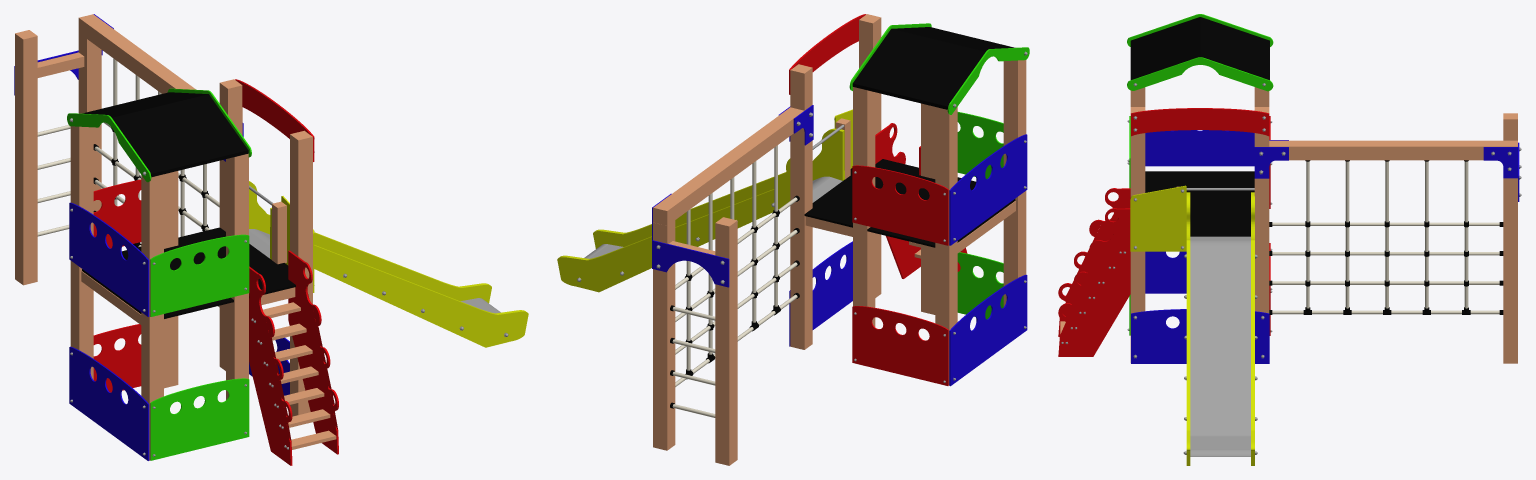
File: Parque infantil tobogan y cuerda.fbx
3 renders of one model, left to right at view 1: azimuth 30°, elevation 25°; view 2: azimuth 150°, elevation 25°; view 3: azimuth 270°, elevation 25°, orthographic. The views are drawn at different scales.
Visible parts, largest first — view 1: Cube.012, Cube.001, Cube.026, Cylinder.007, Cube.004, Cube.035, Cylinder.002, Cylinder; view 2: Cube.012, Cube.001, Cube.004, Cylinder.007, Cube.035, Cube.026, Cylinder.002, Cylinder; view 3: Cylinder, Cube.012, Cylinder.007, Cube.001, Cube.004, Cylinder.002, Cube.035, Cube.026, Icosphere.011.
Part boxes in pixels (bbox=[...]): Cube.012: bbox=[15, 14, 336, 460]; Cube.001: bbox=[93, 79, 338, 465]; Cube.026: bbox=[67, 88, 251, 460]; Cylinder.007: bbox=[82, 92, 295, 318]; Cube.004: bbox=[14, 14, 289, 460]; Cube.035: bbox=[249, 181, 528, 347]; Cylinder.002: bbox=[37, 58, 219, 307]; Cylinder: bbox=[249, 185, 500, 313]; Cube.012: bbox=[653, 14, 1026, 465]; Cube.001: bbox=[789, 14, 967, 385]; Cube.004: bbox=[652, 105, 1027, 386]; Cylinder.007: bbox=[670, 27, 1015, 408]; Cube.035: bbox=[557, 109, 852, 292]; Cube.026: bbox=[849, 23, 1029, 319]; Cylinder.002: bbox=[672, 145, 797, 417]; Cylinder: bbox=[584, 124, 844, 258]; Cylinder: bbox=[1186, 188, 1254, 456]; Cube.012: bbox=[1060, 87, 1517, 363]; Cylinder.007: bbox=[1130, 17, 1503, 314]; Cube.001: bbox=[1058, 108, 1270, 356]; Cube.004: bbox=[1131, 130, 1519, 363]; Cylinder.002: bbox=[1272, 161, 1499, 314]; Cube.035: bbox=[1130, 185, 1254, 465]; Cube.026: bbox=[1127, 14, 1273, 335]; Icosphere.011: bbox=[1061, 83, 1521, 454].
Bounding box in the file's own units: 1963 × 1429 × 2152.
